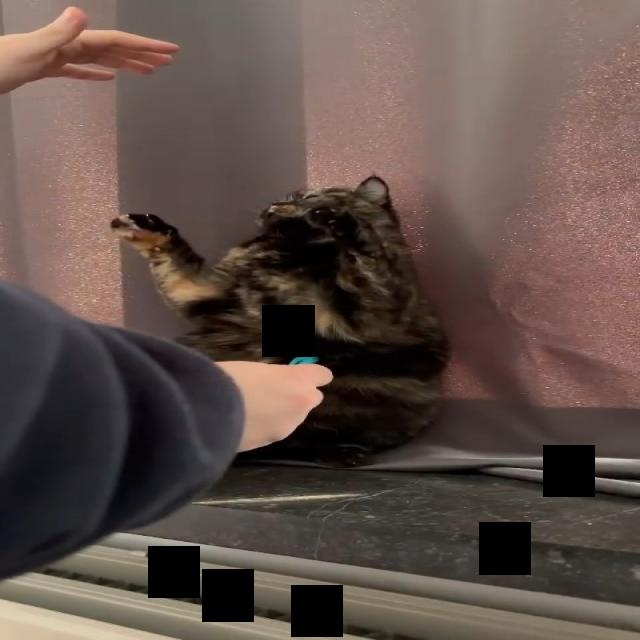authorized: (108, 174, 451, 468)
